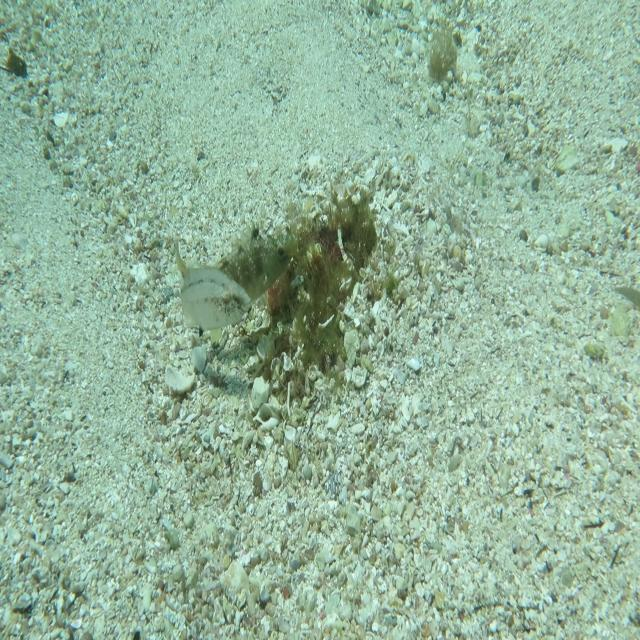FAN: (169, 215, 300, 311)
core_nest: (315, 218, 370, 259)
female: (178, 263, 252, 339)
nest: (260, 178, 400, 416)
